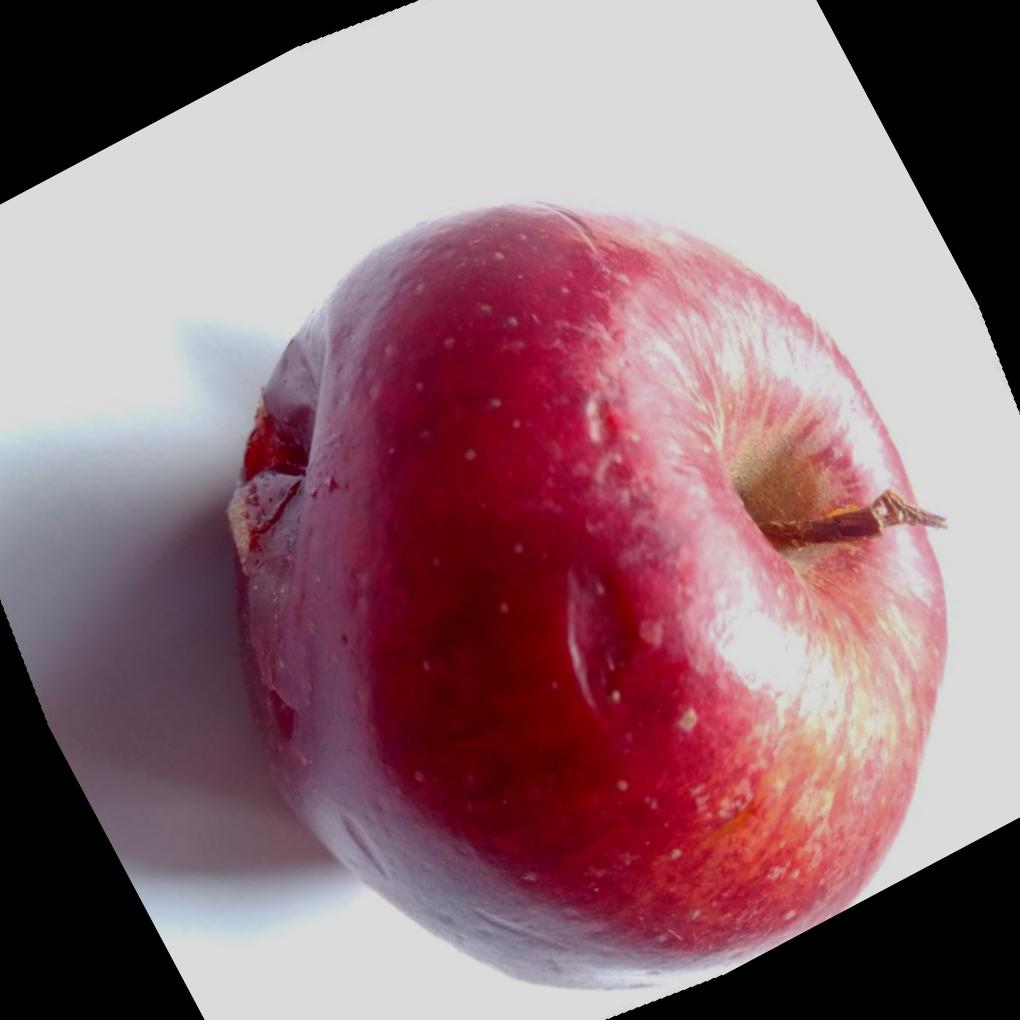FreshOrange: (221, 198, 951, 995)
